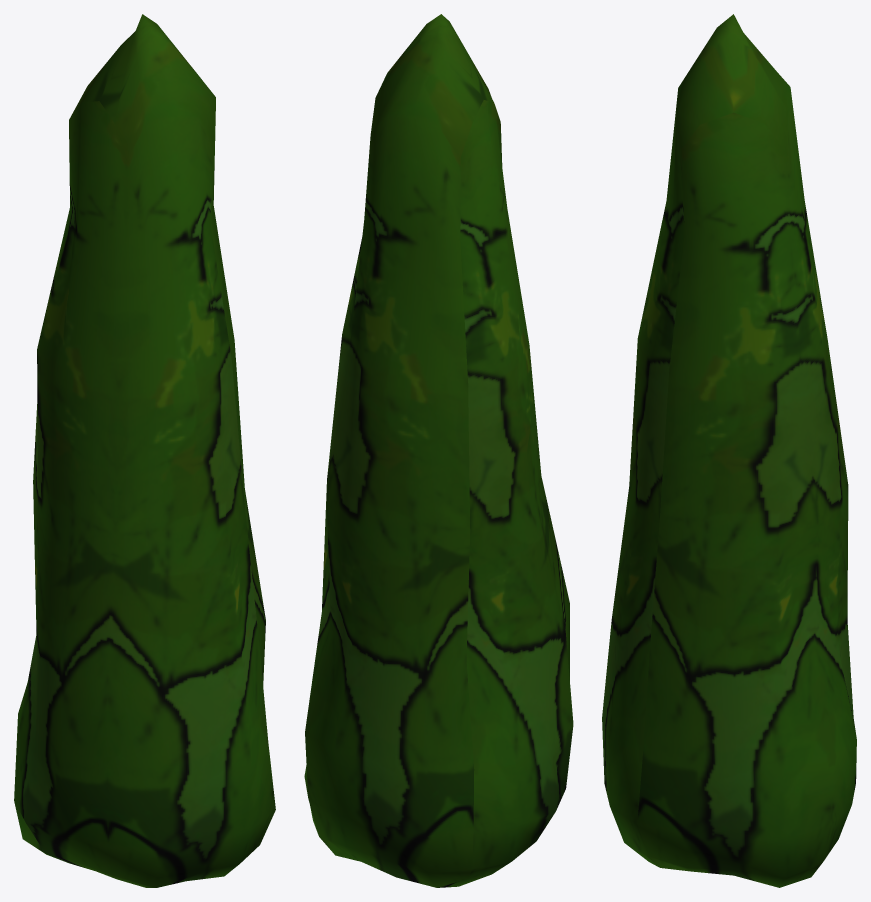
File: SM_Bush_Tall_1.fbx
The picture shows the model from 3 angles, left to right: view 1: azimuth 30°, elevation 25°; view 2: azimuth 150°, elevation 25°; view 3: azimuth 270°, elevation 25°; orthographic projection.
Visible parts, largest first — view 1: SM_Bush_Tall_1; view 2: SM_Bush_Tall_1; view 3: SM_Bush_Tall_1.
Boxes of the visible parts, x1,y1,x2,y2 form: SM_Bush_Tall_1: (14,14,275,887); SM_Bush_Tall_1: (304,14,573,887); SM_Bush_Tall_1: (602,14,856,887).
Size of the model in its own units: 1.58 by 1.53 by 5.62.
